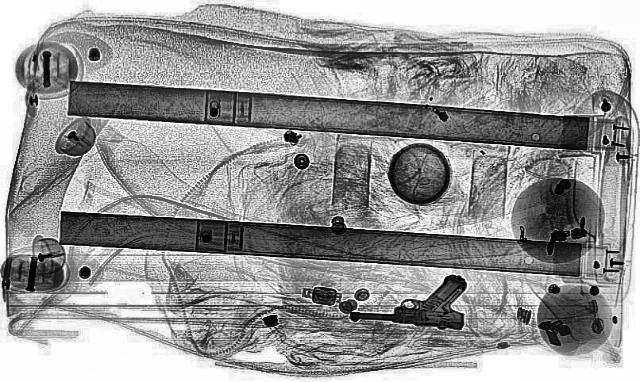Gun: (344, 268, 478, 326)
